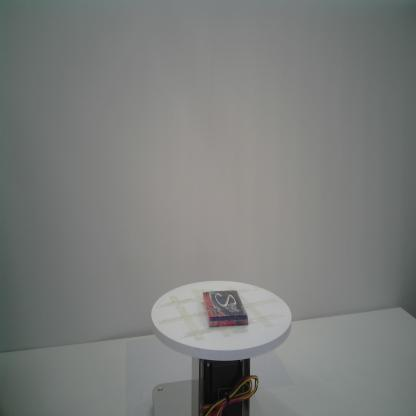Gum: (202, 289, 249, 328)
